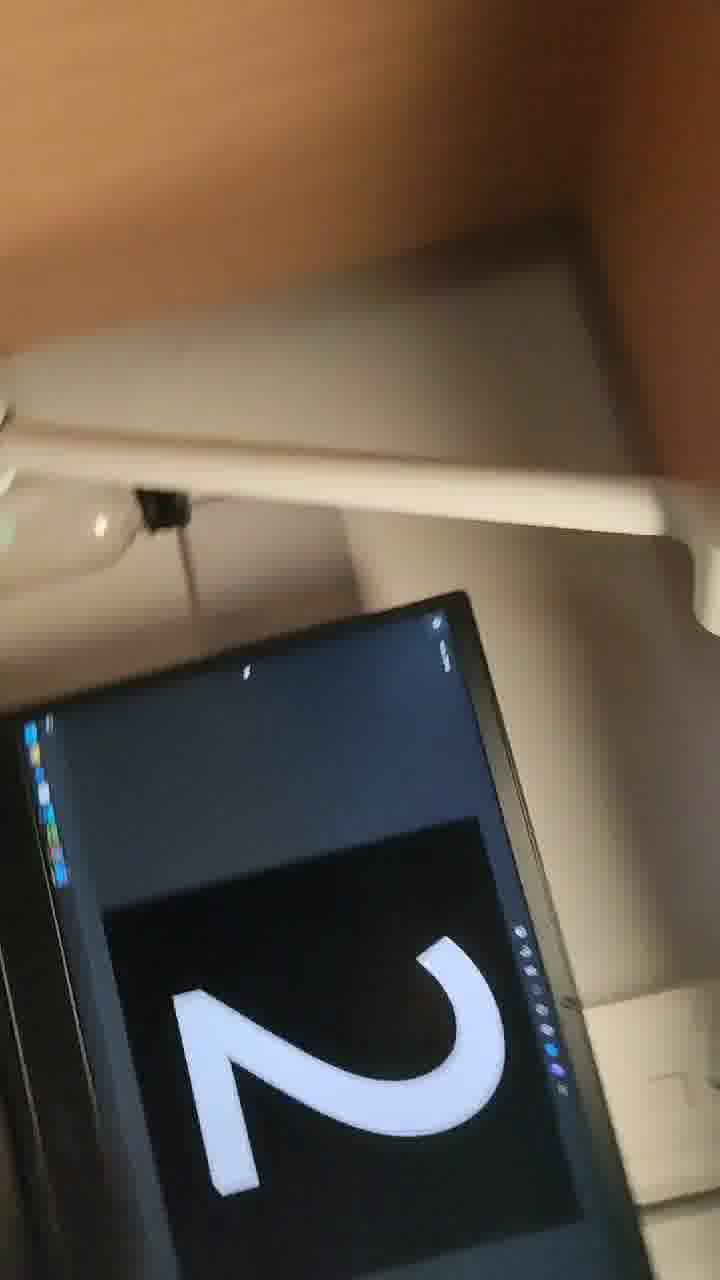two: (141, 825, 533, 1280)
